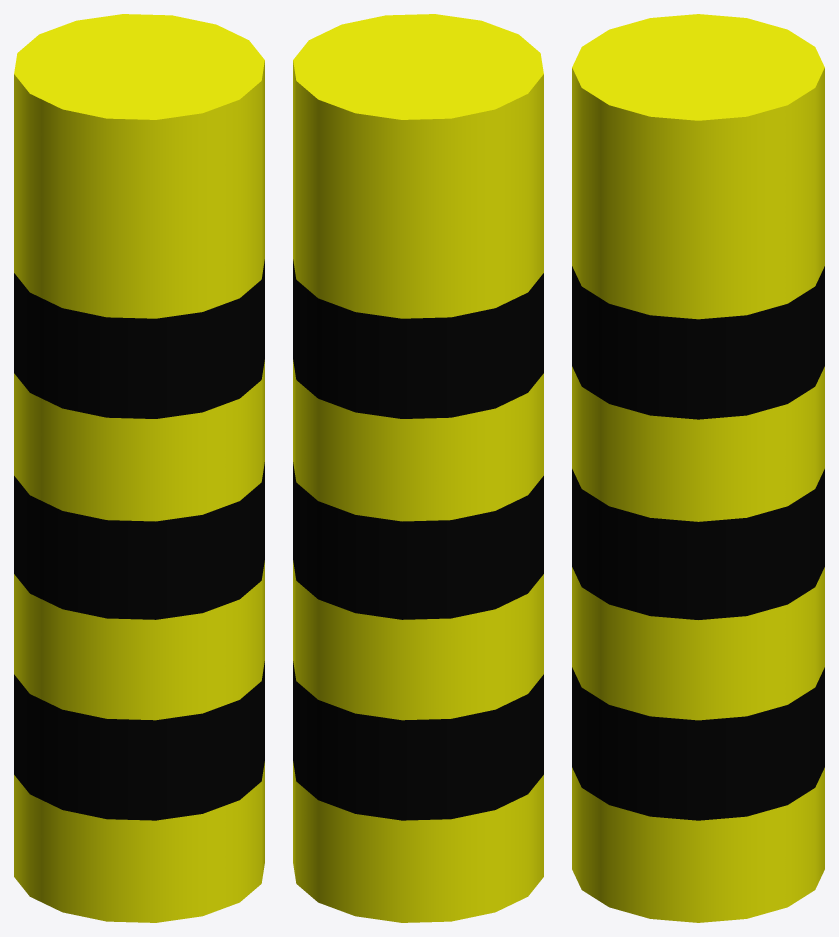
File: pilar1.FBX
3 renders of one model, left to right at view 1: azimuth 30°, elevation 25°; view 2: azimuth 150°, elevation 25°; view 3: azimuth 270°, elevation 25°, orthographic.
Visible parts, largest first — view 1: Cylinder001; view 2: Cylinder001; view 3: Cylinder001.
Part boxes in pixels (x1,y1,x2,y2): Cylinder001: (14,14,264,922); Cylinder001: (293,14,543,922); Cylinder001: (572,14,824,922).
Bounding box in the file's own units: 1.8 × 6.3 × 1.8.
